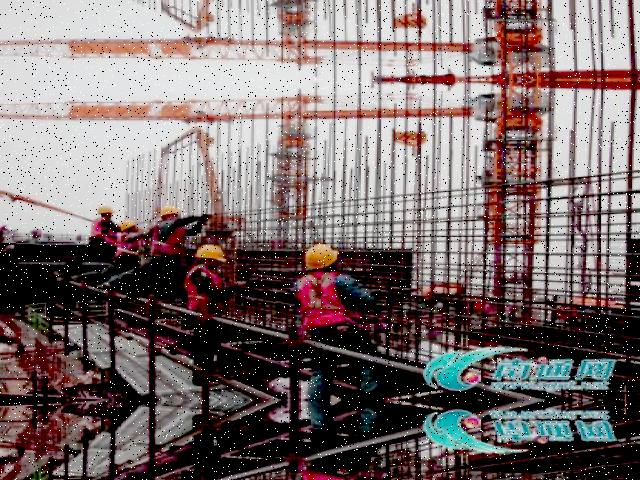Helmet: (296, 241, 338, 272), (187, 239, 231, 265), (153, 202, 182, 218), (92, 200, 114, 218), (114, 216, 135, 234)
